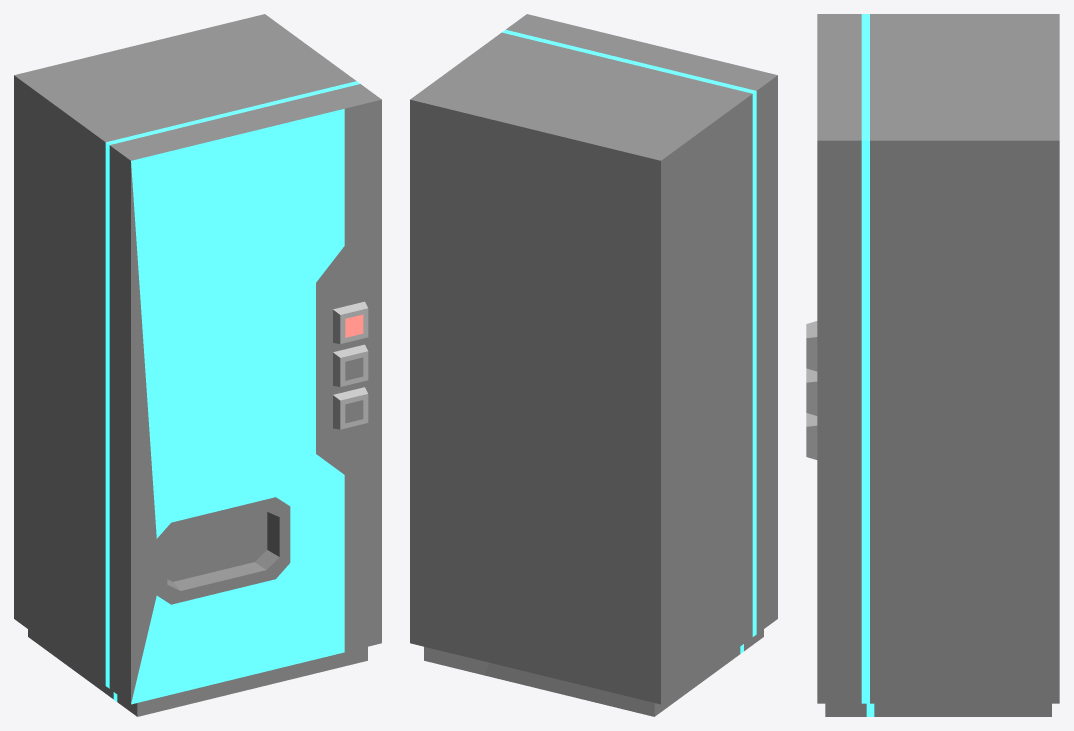
The model's file is vendingA.fbx.
The picture shows the model from 3 angles, left to right: view 1: azimuth 30°, elevation 25°; view 2: azimuth 150°, elevation 25°; view 3: azimuth 270°, elevation 25°; orthographic projection. The views are drawn at different scales.
Parts seen in each view (by area): view 1: SM_Prop_VendingMachine_01; view 2: SM_Prop_VendingMachine_01; view 3: SM_Prop_VendingMachine_01.
Part boxes in pixels (bbox=[...]): SM_Prop_VendingMachine_01: bbox=[14, 14, 381, 716]; SM_Prop_VendingMachine_01: bbox=[410, 14, 777, 716]; SM_Prop_VendingMachine_01: bbox=[806, 14, 1059, 716].
Bounding box in the file's own units: 75.72 × 162 × 63.97.
